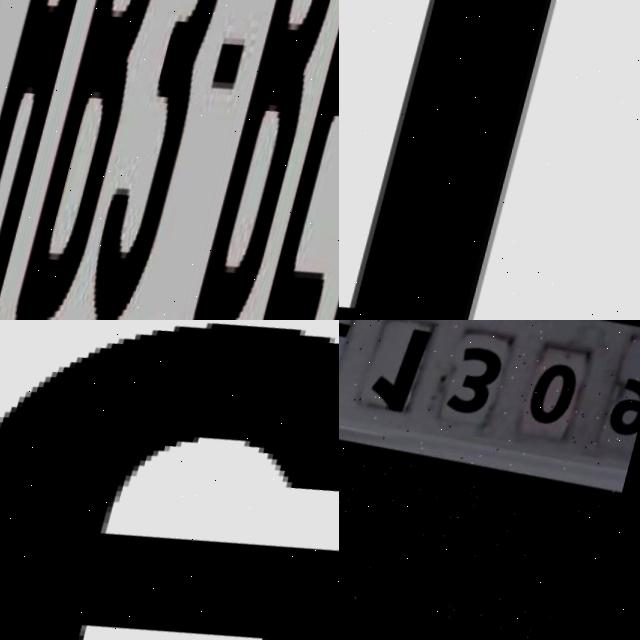0: (504, 345, 608, 467)
1: (339, 0, 640, 320), (341, 320, 453, 442)
2: (339, 320, 374, 423)
3: (78, 0, 264, 320), (424, 327, 532, 456)
9: (586, 365, 640, 476)
B: (17, 0, 217, 320), (190, 0, 339, 320)
E: (0, 331, 339, 640)
F: (263, 0, 339, 320)
H: (0, 0, 133, 320)
